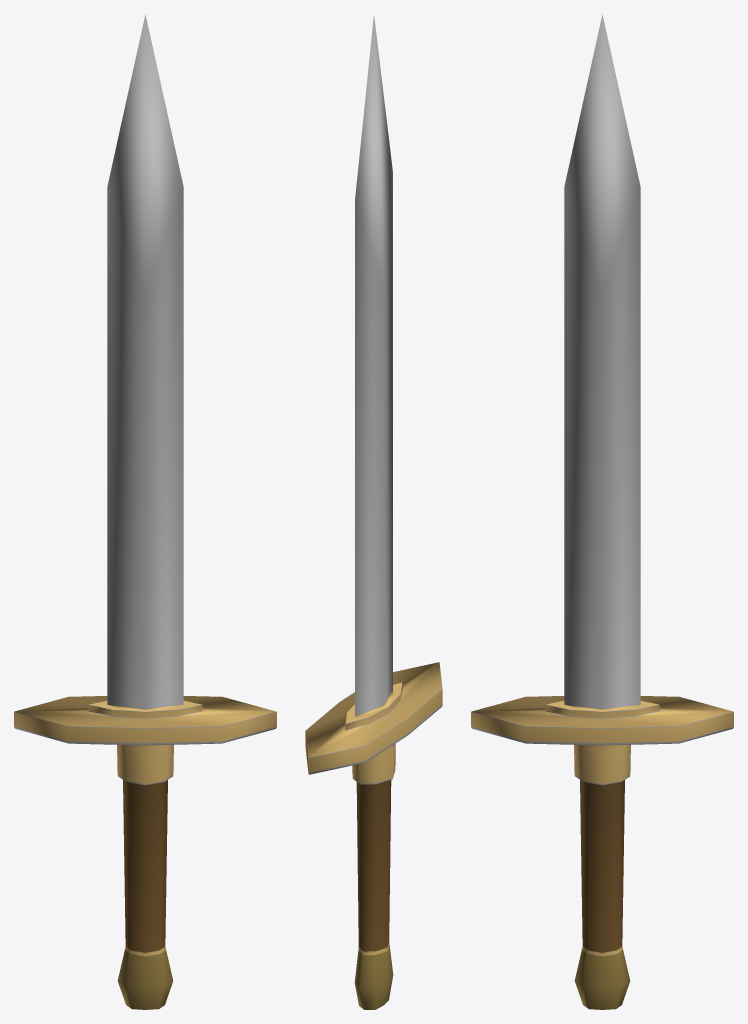
Rendered from Sword Model.fbx.
The picture shows the model from 3 angles, left to right: view 1: azimuth 90°, elevation 25°; view 2: azimuth 150°, elevation 25°; view 3: azimuth 270°, elevation 25°; orthographic projection.
Parts seen in each view (by area): view 1: Cube.000; view 2: Cube.000; view 3: Cube.000.
Part boxes in pixels (x1,y1,x2,y2): Cube.000: (14, 14, 276, 1009); Cube.000: (305, 15, 442, 1009); Cube.000: (471, 14, 733, 1009).
Bounding box in the file's own units: 207 × 2870 × 690.
